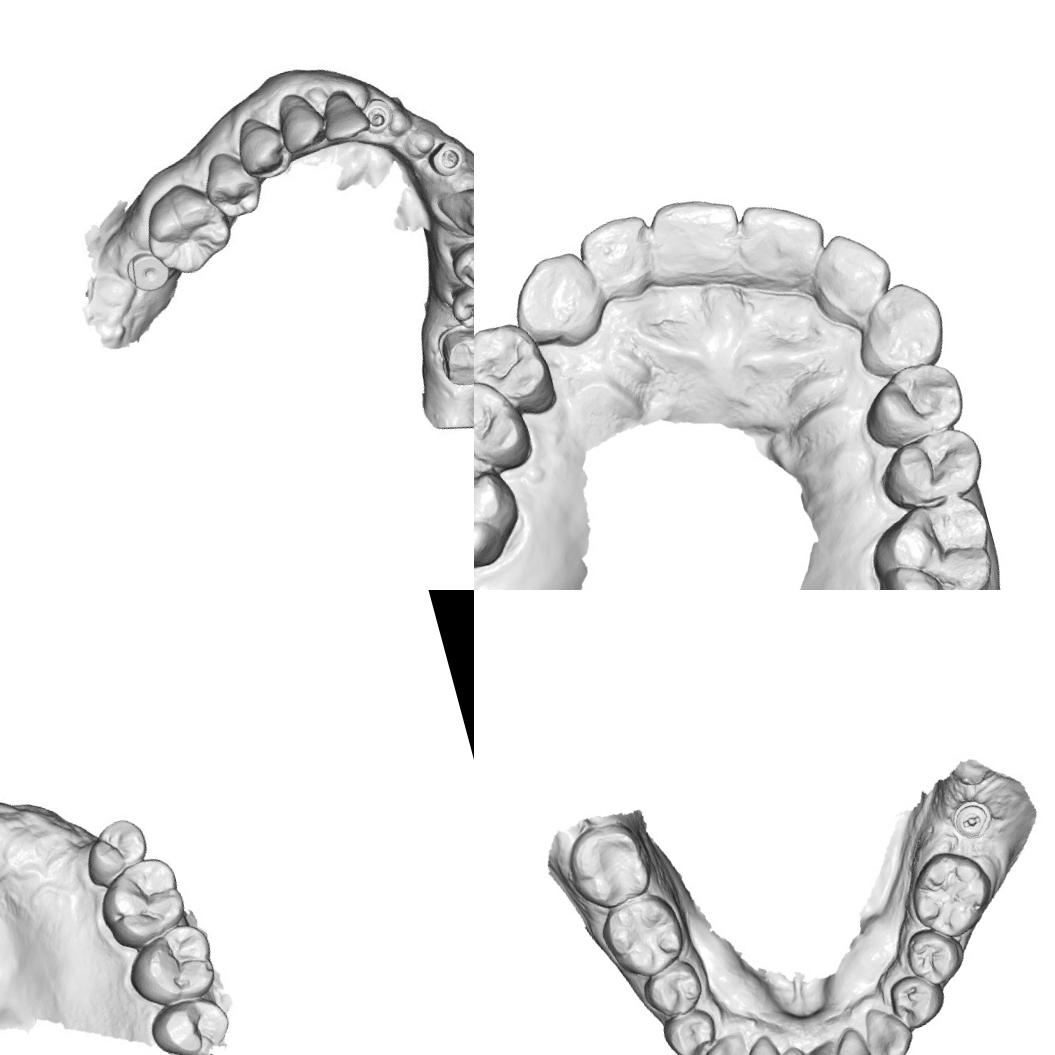canine: (840, 272, 956, 386), (502, 244, 611, 358), (270, 82, 336, 164), (857, 999, 919, 1055), (434, 179, 474, 244), (697, 1028, 758, 1055)
crown: (429, 317, 474, 395)
implant: (119, 239, 178, 300), (356, 92, 402, 141), (423, 138, 468, 180)
implant_minus: (946, 794, 998, 844)
incisor: (642, 184, 754, 295), (732, 192, 832, 293), (806, 222, 902, 324), (570, 206, 665, 308), (316, 86, 371, 147), (821, 1022, 876, 1055), (730, 1030, 787, 1055), (767, 1040, 820, 1055), (802, 1038, 847, 1055)
molar: (858, 488, 1005, 590), (90, 848, 201, 946), (899, 841, 1002, 946), (139, 175, 239, 282), (557, 814, 659, 916), (594, 884, 694, 988), (474, 422, 530, 584), (119, 922, 218, 1010), (143, 990, 233, 1055)
premolar: (850, 352, 976, 456), (869, 419, 993, 516), (474, 311, 565, 431), (474, 366, 539, 484), (195, 144, 268, 226), (76, 816, 152, 888), (635, 953, 709, 1026), (900, 920, 970, 992), (230, 113, 296, 185), (883, 966, 951, 1034), (658, 1003, 722, 1055), (444, 234, 474, 298), (446, 277, 474, 337)
